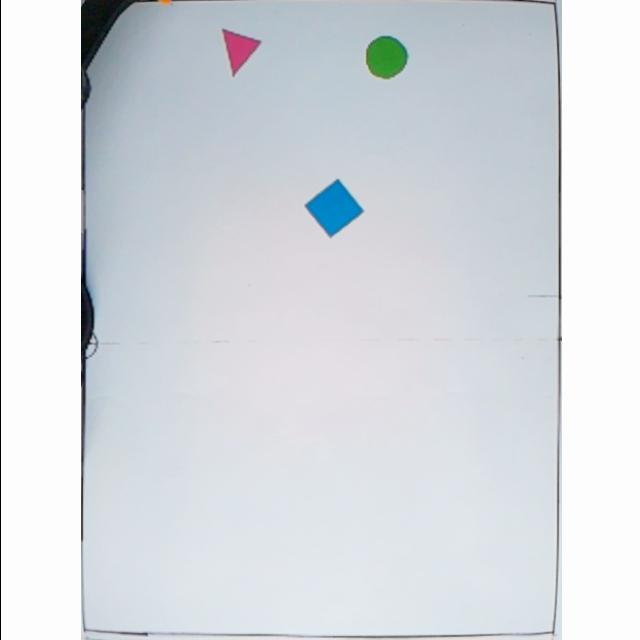blueSquare: (300, 178, 364, 242)
greenCircle: (362, 35, 408, 81)
pinkTriangle: (216, 28, 262, 76)
